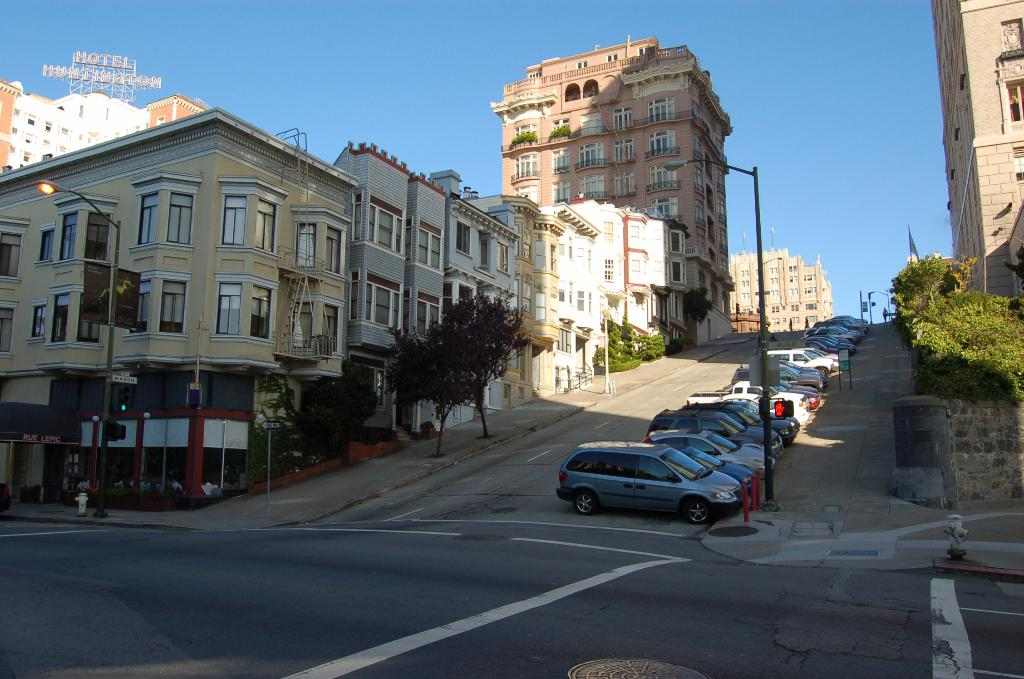Car: (554, 314, 871, 529)
